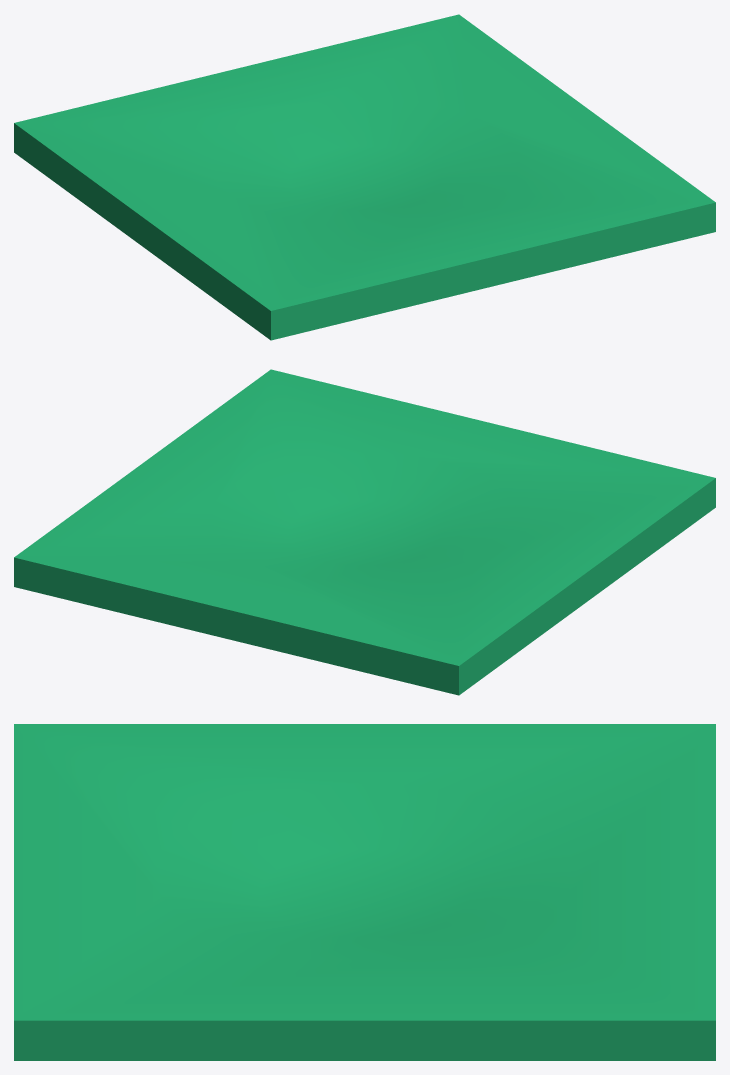
The model's file is bumpDown.fbx.
3 renders of one model, top to bottom at view 1: azimuth 30°, elevation 25°; view 2: azimuth 150°, elevation 25°; view 3: azimuth 270°, elevation 25°, orthographic. The views are drawn at different scales.
Parts seen in each view (by area): view 1: bumpDown; view 2: bumpDown; view 3: bumpDown.
Boxes of the visible parts, x1,y1,x2,y2 form: bumpDown: (14,14,715,340); bumpDown: (14,369,715,695); bumpDown: (14,724,715,1060).
Bounding box in the file's own units: 10 × 0.6333 × 10.
